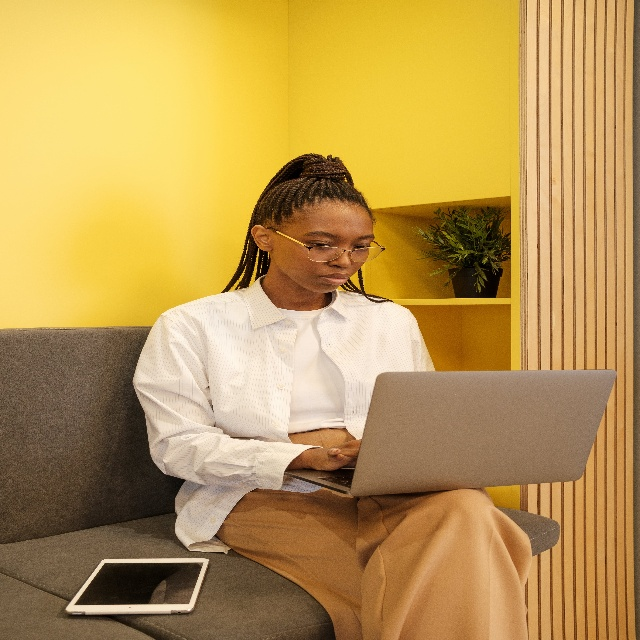Gafas: (265, 225, 384, 263)
Sin_guantes: (310, 438, 363, 472)
